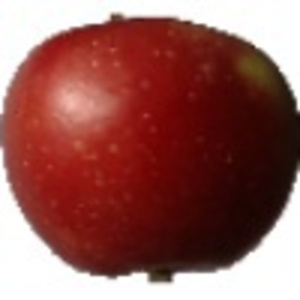maçã braeburn: (1, 10, 299, 286)
